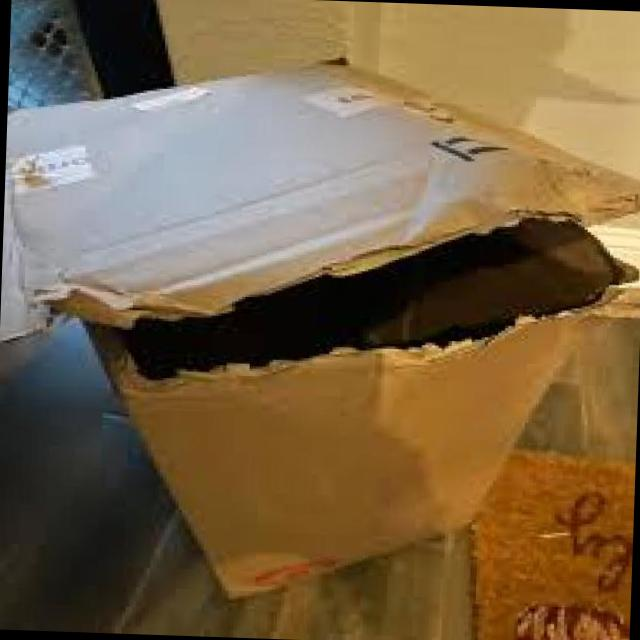box: (0, 59, 640, 604)
crushed: (56, 157, 404, 249)
opened: (72, 203, 640, 384)
